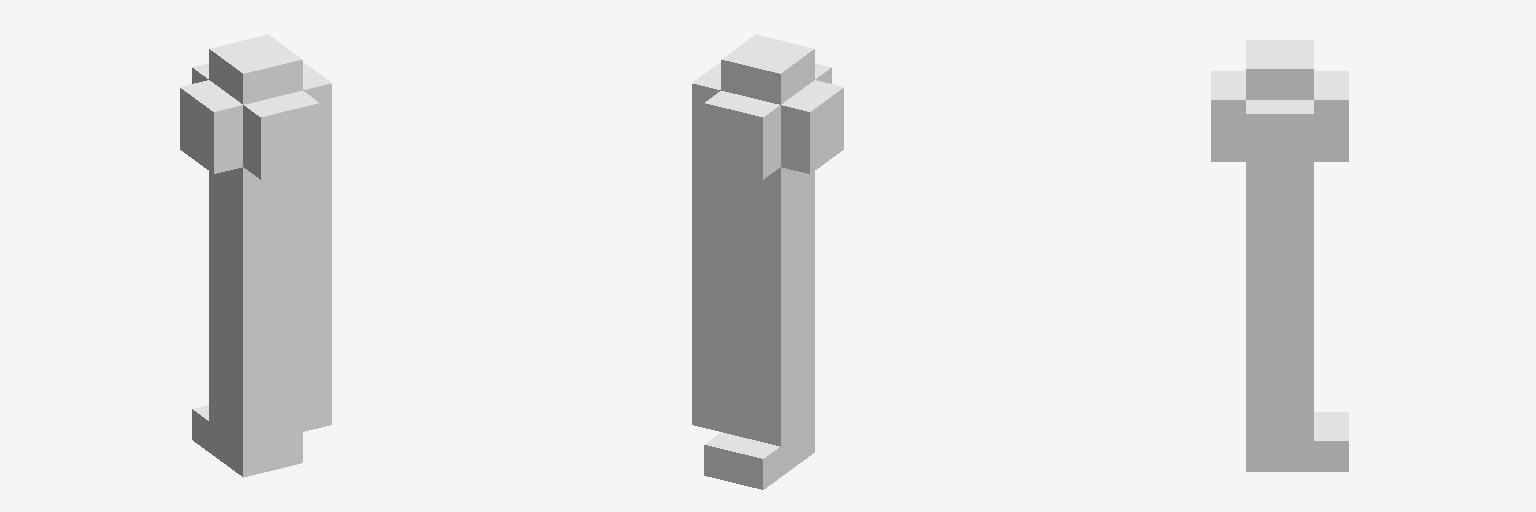
File: a792_BasicGuard_Arm_L.obj
The picture shows the model from 3 angles: view 1: azimuth 30°, elevation 25°; view 2: azimuth 150°, elevation 25°; view 3: azimuth 270°, elevation 25°; orthographic projection.
Bounding box in the file's own units: 4 × 13 × 4.